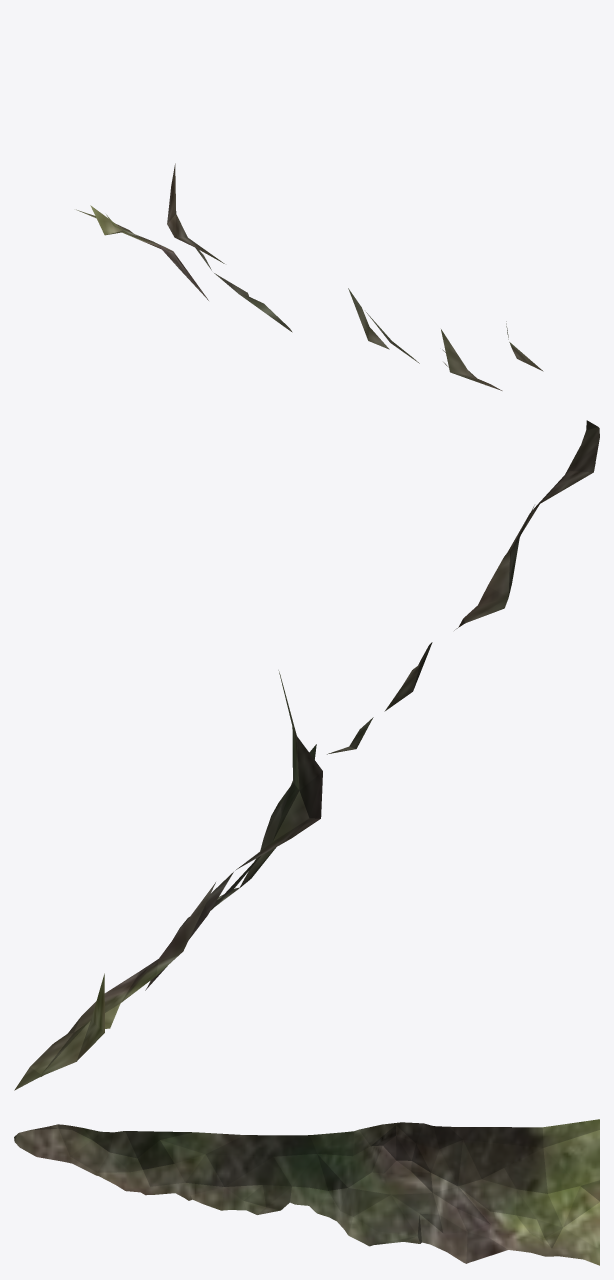
3 views of the same model, one above another, from view 1: azimuth 30°, elevation 25°; view 2: azimuth 150°, elevation 25°; view 3: azimuth 270°, elevation 25° (orthographic). The views are drawn at different scales.
Bounding box in the file's own units: 0.2289 × 0.5086 × 2.1.
1 material, 1 textured.
